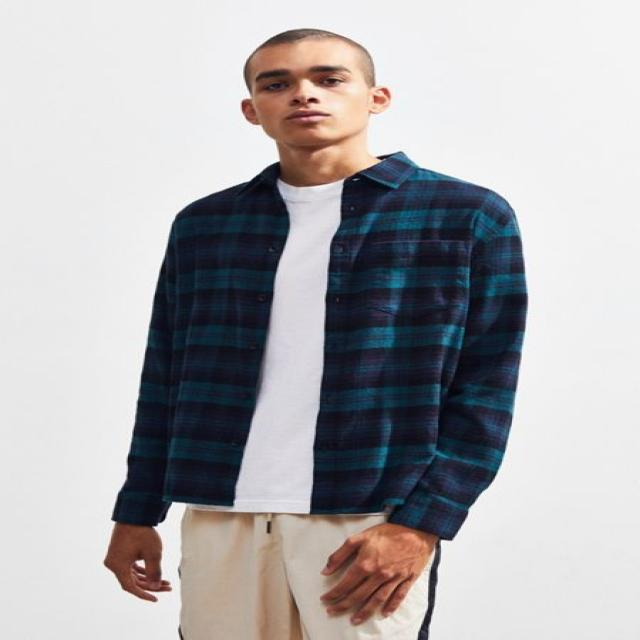human: (96, 23, 530, 640)
